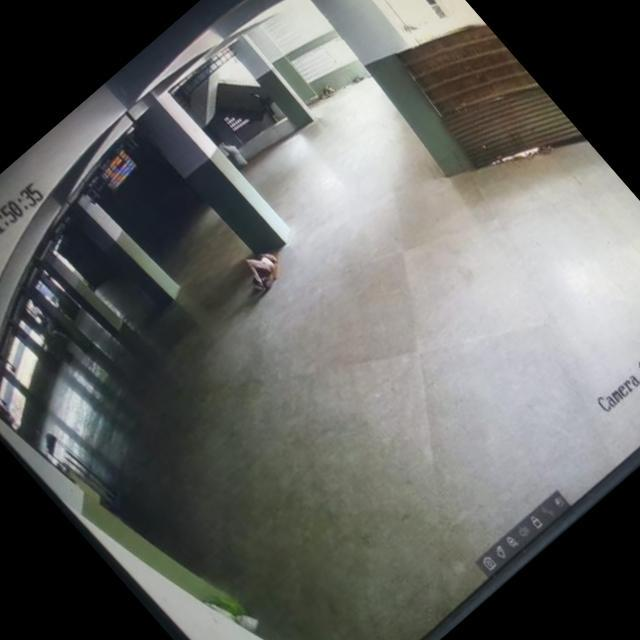person: (236, 242, 294, 299)
